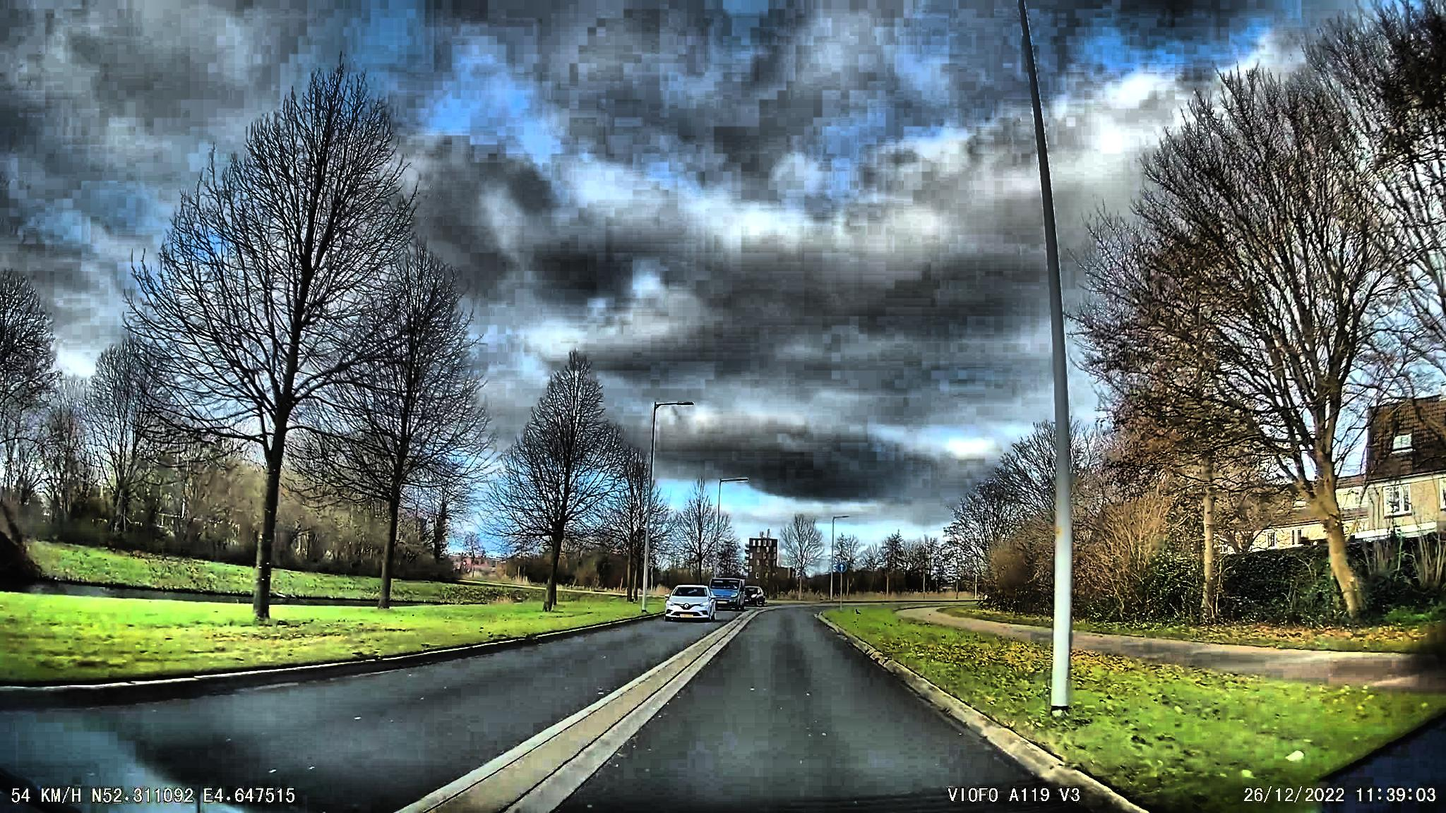Roads: (0, 607, 1156, 813)
